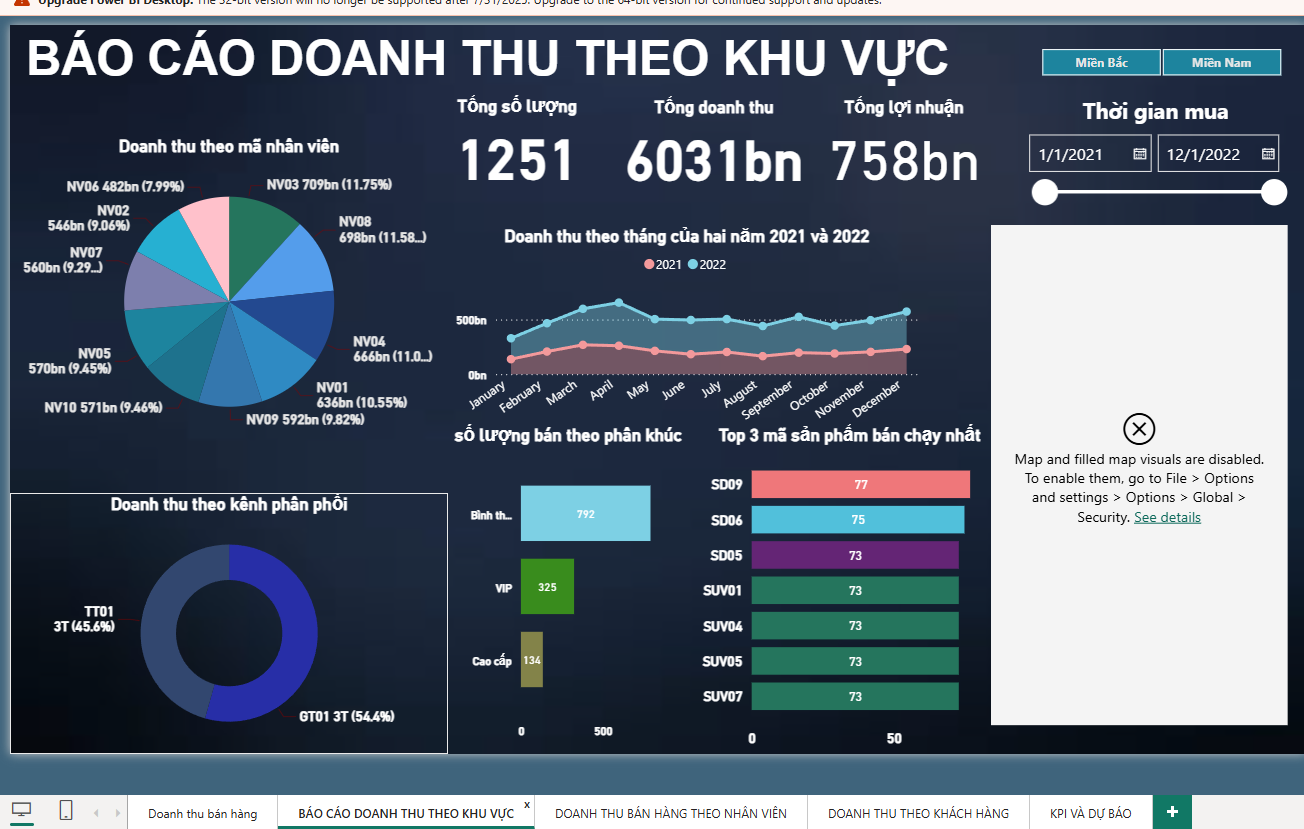

This screenshot's page, from the dashboard's own definition file:
{"tool":"powerbi","page":{"name":"BÁO CÁO DOANH THU THEO KHU VỰC","canvas":[1280,720],"ordinal":1},"visuals":[{"type":"textbox","box":[10.7,0,945.8,87],"z":0},{"type":"slicer","fields":{"Values":["Khu vực.Khu vực"]},"box":[993.4,16.7,285.9,38.1],"z":1000},{"type":"pieChart","title":"Doanh thu theo mã nhân viên","fields":{"Category":["Bán hàng.Mã nhân viên"],"Y":["Sum(Bán hàng.Doanh thu)"]},"box":[0,109.3,432.9,308.2],"z":2000},{"type":"donutChart","title":"Doanh thu theo kênh phân phối","fields":{"Y":["Sum(Bán hàng.Doanh thu)"],"Category":["Kênh phân phối.Mã phân phối"]},"box":[0,462.3,432.9,257.8],"z":3000},{"type":"card","title":"Tổng số lượng","fields":{"Values":["Bán hàng.Tổng số lượng"]},"box":[407.1,68.9,188,95],"z":4000},{"type":"card","title":"Tổng doanh thu","fields":{"Values":["Bán hàng.Tổng doanh thu"]},"box":[601.1,70.1,187.7,95.3],"z":5000},{"type":"card","title":"Tổng lợi nhuận","fields":{"Values":["Bán hàng.Tổng lợi nhuận"]},"box":[788.8,70.1,188,95],"z":6000},{"type":"stackedAreaChart","title":" Doanh thu theo tháng của hai năm 2021 và 2022","fields":{"Y":["Bán hàng.Tổng doanh thu"],"Category":["Date.Lịch mua.Variation.Date Hierarchy.Month"],"Series":["Date.Lịch mua.Variation.Date Hierarchy.Year"]},"box":[432.9,197.5,472.2,207.4],"z":7000},{"type":"clusteredBarChart","title":"Top 3 mã sản phẩm bán chạy nhất","fields":{"Y":["Bán hàng.Tổng số lượng"],"Category":["Hạng mục sản phẩm.Mã sản phẩm"]},"box":[677.8,394.3,303.7,325.2],"z":8000},{"type":"map","title":"Doanh thu và số lượng ở hai khu vực","fields":{"Category":["Khu vực.Tỉnh thành"],"Size":["Bán hàng.Tổng doanh thu"]},"box":[969,197.7,293.1,493.6],"z":9000},{"type":"clusteredBarChart","title":"số lượng bán theo phân khúc","fields":{"Y":["Bán hàng.Tổng số lượng"],"Category":["Bán hàng.Phân khúc xe"]},"box":[432.4,394.3,237,316.8],"z":10000},{"type":"slicer","title":"Thời gian mua","fields":{"Values":["Date.Lịch mua"]},"box":[993.3,70.1,276,110.7],"z":11000}]}

Visuals, with their boxes on the page's 1280x720 design canvas (x1, y1, x2, y2). These are canvas units, not pixel positions in the 1304x829 screenshot, which may show the page scaled, cropped or inside an application window:
textbox: {"x1": 11, "y1": 0, "x2": 956, "y2": 87}
slicer - Khu vực.Khu vực: {"x1": 993, "y1": 17, "x2": 1279, "y2": 55}
"Doanh thu theo mã nhân viên" pieChart: {"x1": 0, "y1": 109, "x2": 433, "y2": 418}
"Doanh thu theo kênh phân phối" donutChart: {"x1": 0, "y1": 462, "x2": 433, "y2": 720}
"Tổng số lượng" card: {"x1": 407, "y1": 69, "x2": 595, "y2": 164}
"Tổng doanh thu" card: {"x1": 601, "y1": 70, "x2": 789, "y2": 165}
"Tổng lợi nhuận" card: {"x1": 789, "y1": 70, "x2": 977, "y2": 165}
" Doanh thu theo tháng của hai năm 2021 và 2022" stackedAreaChart: {"x1": 433, "y1": 198, "x2": 905, "y2": 405}
"Top 3 mã sản phẩm bán chạy nhất" clusteredBarChart: {"x1": 678, "y1": 394, "x2": 982, "y2": 720}
"Doanh thu và số lượng ở hai khu vực" map: {"x1": 969, "y1": 198, "x2": 1262, "y2": 691}
"số lượng bán theo phân khúc" clusteredBarChart: {"x1": 432, "y1": 394, "x2": 669, "y2": 711}
"Thời gian mua" slicer: {"x1": 993, "y1": 70, "x2": 1269, "y2": 181}
